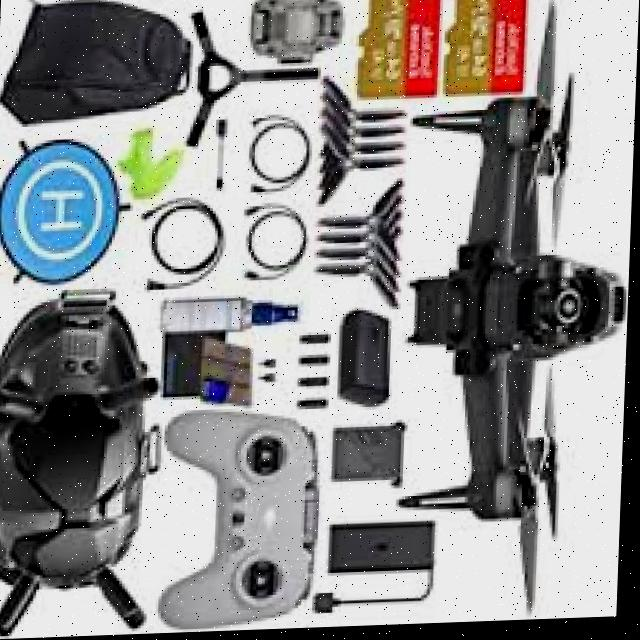drone: (360, 0, 640, 624)
